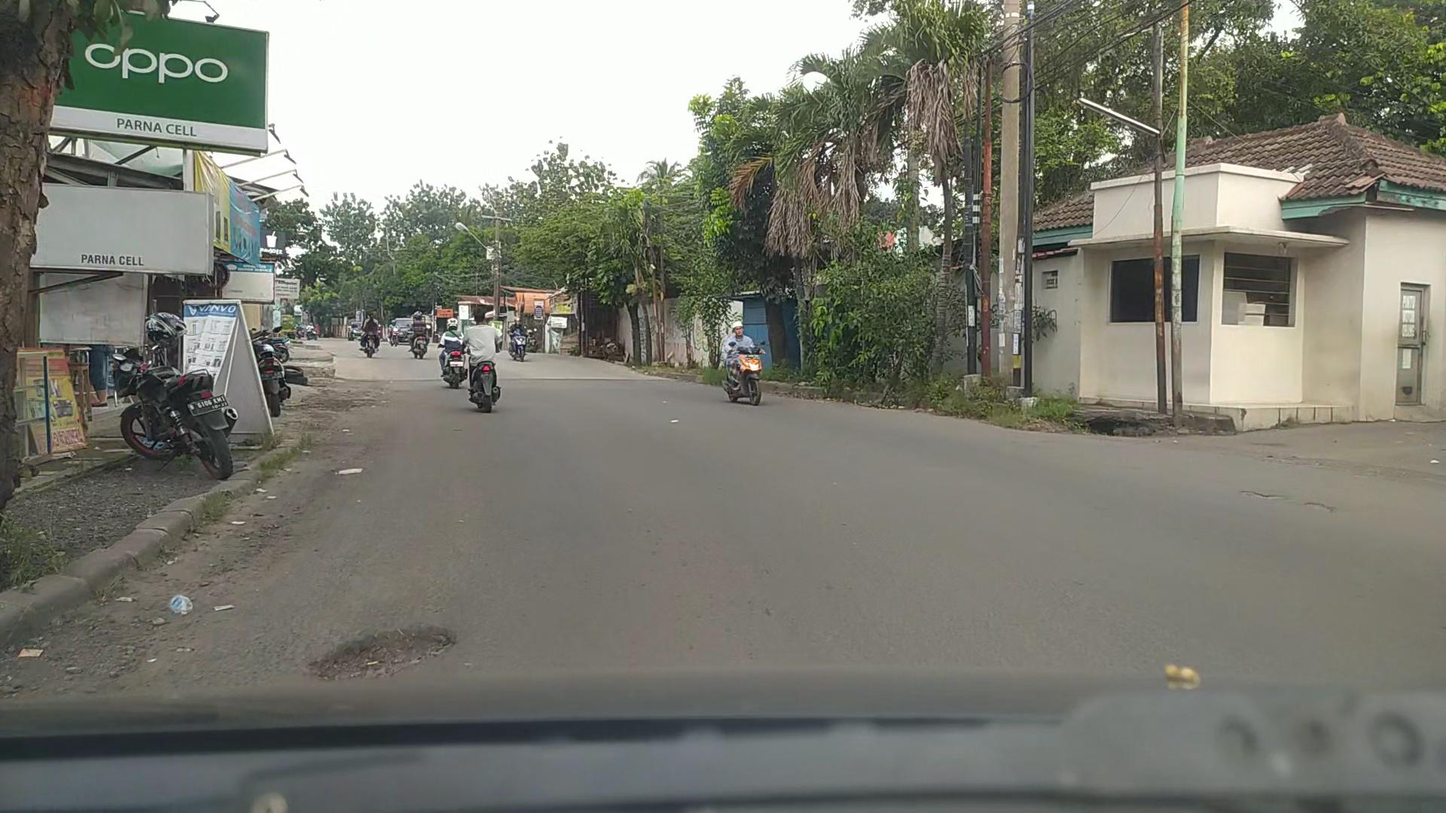pothole: (315, 630, 449, 678)
